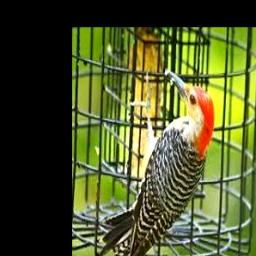Woodpecker: (102, 68, 215, 256)
